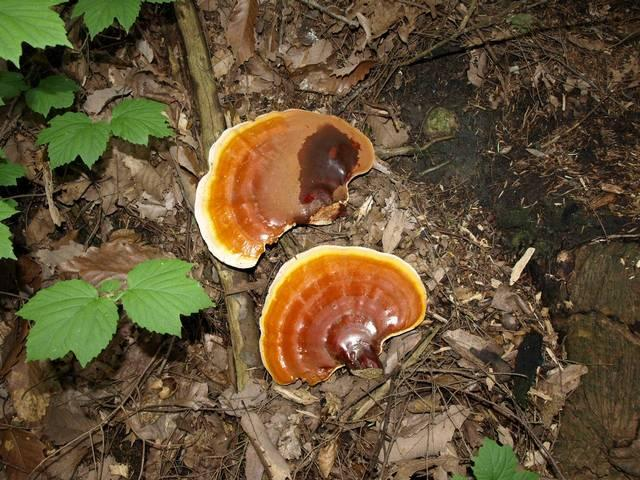Non-edible Mushroom: (192, 107, 375, 269), (257, 243, 428, 387)
